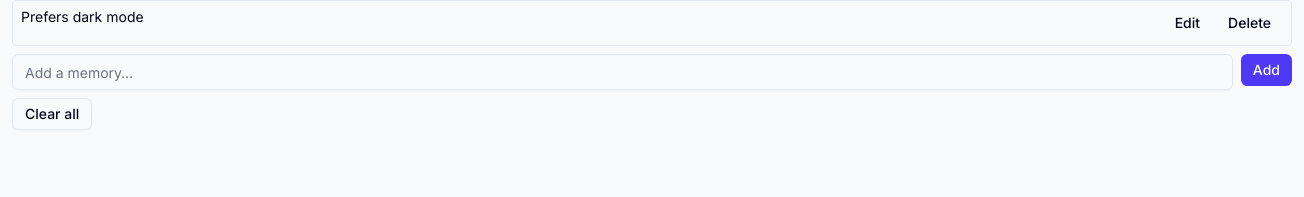
Scenario: MemorySettings › adds a memory
Check: the text "Prefers dark mode" is shown, box [21,7,144,27]
Type "New fact" into the field with placeholder "Add a memory…". click: (622, 72)
box: [12,54,1233,90]
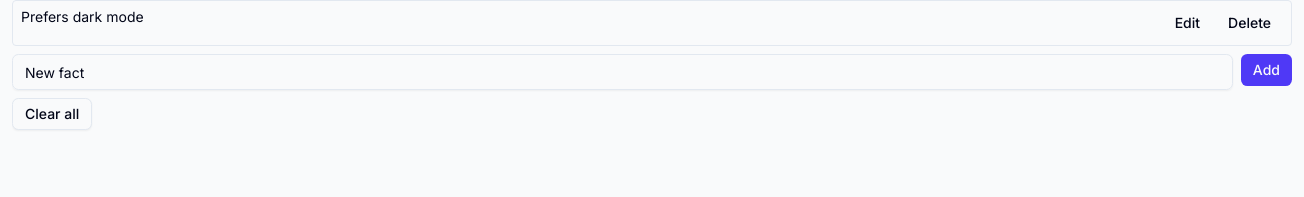
Click the button "Add". click: (1266, 70)
box: [1241,54,1292,86]
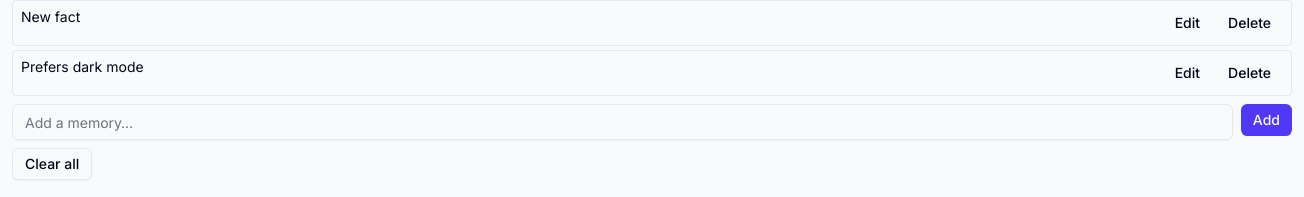
Check: the text "New fact" is shown, box [21,7,80,27]
